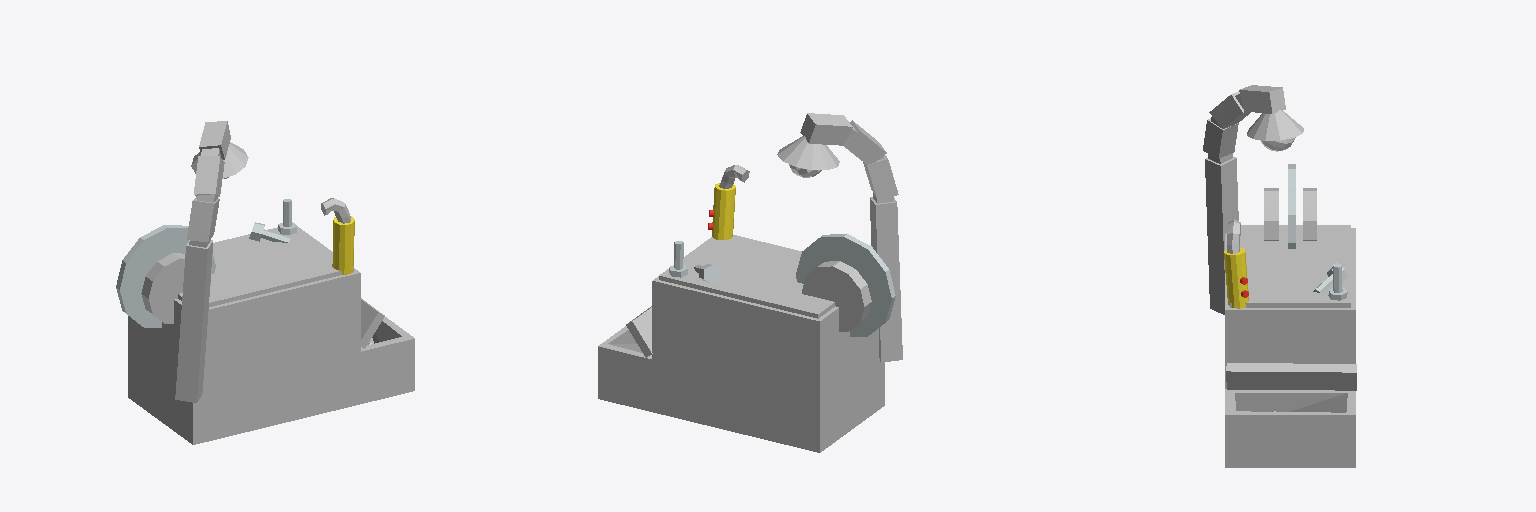
File: Workbench.obj
The picture shows the model from 3 angles: view 1: azimuth 30°, elevation 25°; view 2: azimuth 150°, elevation 25°; view 3: azimuth 270°, elevation 25°; orthographic projection.
Visible parts, largest first — view 1: group[number redacted], group[number redacted], group[number redacted], group[number redacted], group[number redacted], group[number redacted], group[number redacted], group[number redacted]; view 2: group[number redacted], group[number redacted], group[number redacted], group[number redacted], group[number redacted], group[number redacted], group[number redacted], group[number redacted]; view 3: group[number redacted], group[number redacted], group[number redacted], group[number redacted], group[number redacted], group[number redacted], group[number redacted], group[number redacted], group[number redacted].
Boxes of the visible parts, x1,y1,x2,y2 form: group[number redacted]: [128, 268, 360, 444]; group[number redacted]: [175, 121, 248, 402]; group[number redacted]: [178, 225, 353, 306]; group[number redacted]: [357, 317, 414, 404]; group[number redacted]: [116, 225, 215, 327]; group[number redacted]: [141, 253, 210, 323]; group[number redacted]: [321, 198, 354, 274]; group[number redacted]: [361, 298, 384, 348]; group[number redacted]: [652, 276, 884, 452]; group[number redacted]: [777, 113, 902, 362]; group[number redacted]: [659, 235, 834, 318]; group[number redacted]: [796, 234, 895, 336]; group[number redacted]: [598, 326, 656, 412]; group[number redacted]: [802, 261, 871, 331]; group[number redacted]: [708, 165, 749, 239]; group[number redacted]: [626, 306, 652, 357]; group[number redacted]: [1225, 389, 1355, 467]; group[number redacted]: [1225, 228, 1355, 388]; group[number redacted]: [1203, 85, 1303, 314]; group[number redacted]: [1230, 225, 1350, 307]; group[number redacted]: [1226, 363, 1356, 390]; group[number redacted]: [1224, 219, 1248, 308]; group[number redacted]: [1264, 188, 1278, 240]; group[number redacted]: [1303, 188, 1316, 240]; group[number redacted]: [1288, 164, 1295, 248].
Bounding box in the file's own units: 0.63 × 0.6717 × 0.3196.